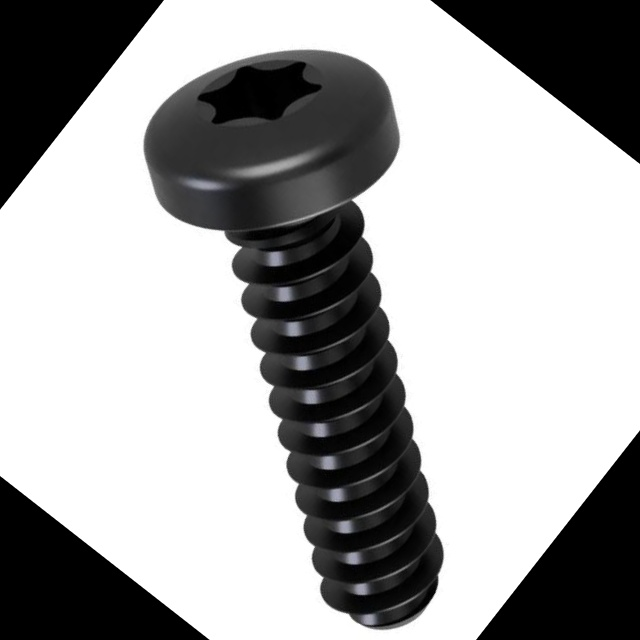torx: (108, 0, 432, 303)
